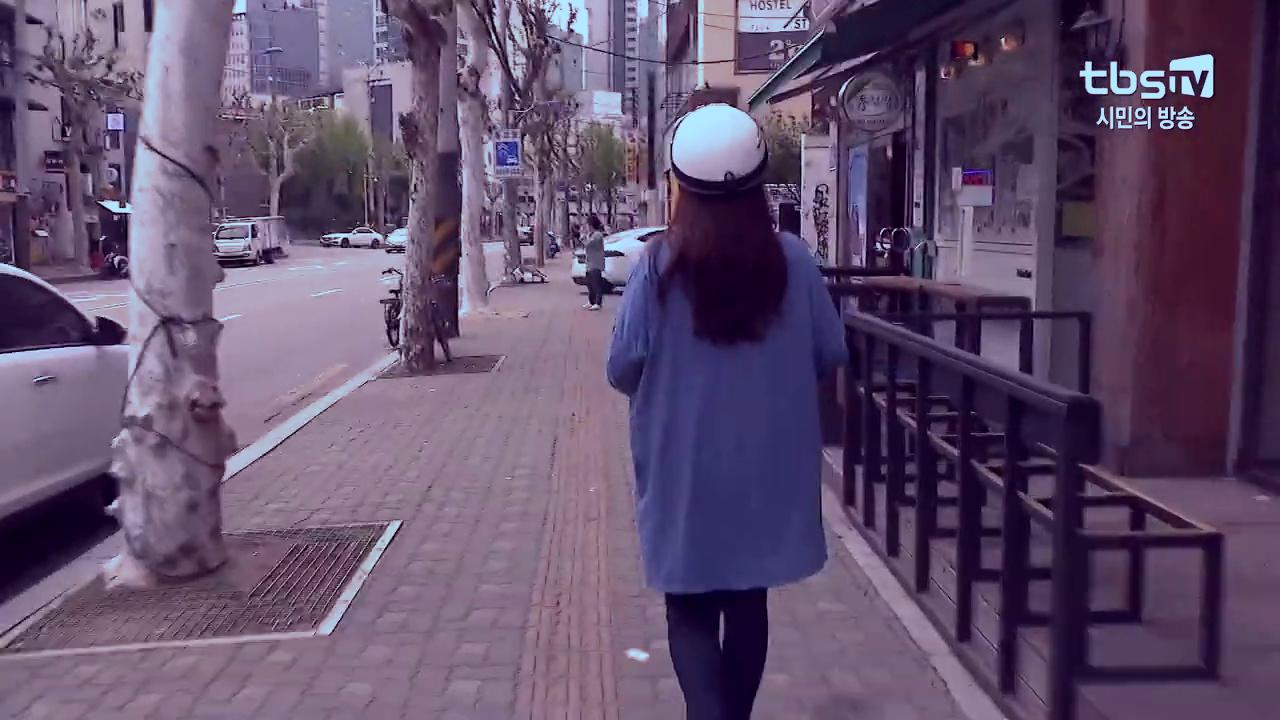helmet: (604, 99, 854, 720)
